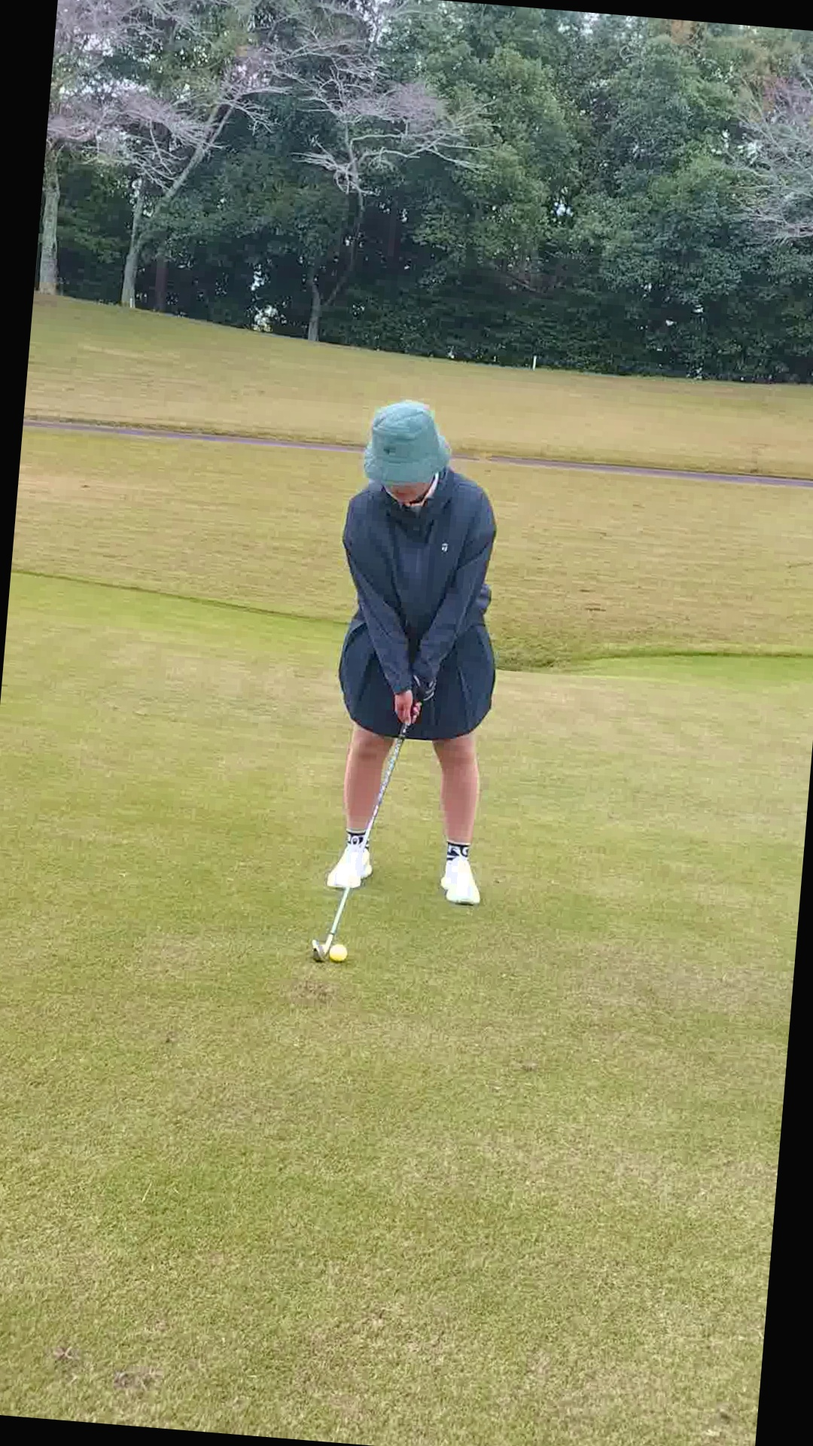clubhead: (281, 880, 390, 1015)
